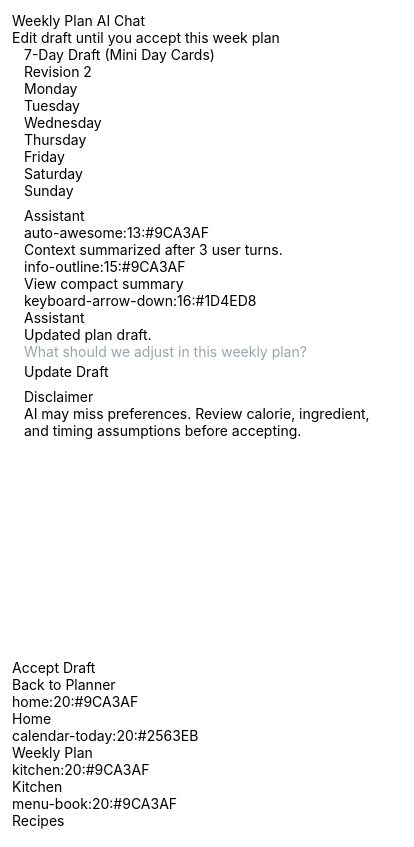
Test case: PlannerChatScreen › renders planner chat inside a bounded scroll container
The image size is (414, 847).
Check: the element with test id "planner-chat-scroll" is shown, box [24, 309, 152, 343]
Check: the text "Context summarized after 3 user turns." is shown, box [24, 241, 283, 258]
Click the element with test id "planner-compaction-info-toggle". click: (105, 266)
box: [24, 258, 186, 275]
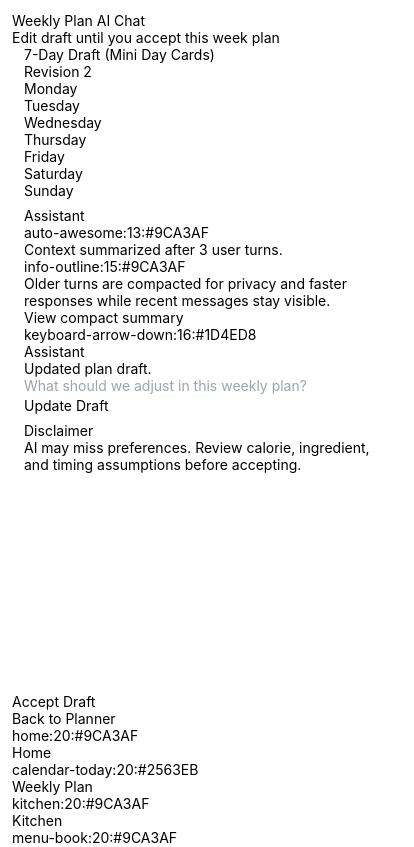
Check: the text "privacy and faster responses" is shown, box [24, 275, 351, 309]
Click the element with test id "planner-compact-summary-toggle". click: (140, 326)
box: [24, 309, 256, 343]
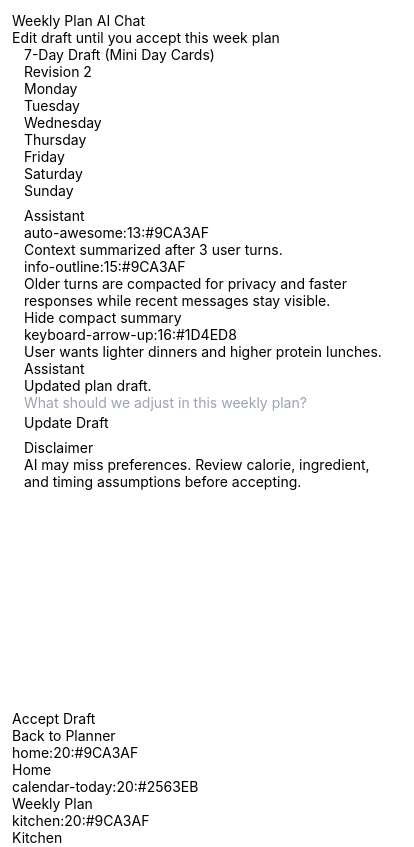
Check: the text "User wants lighter dinners and higher protein lunches." is shown, box [24, 343, 390, 360]
